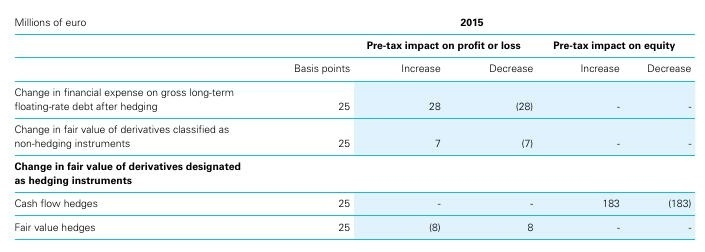table: (0, 0, 705, 252)
